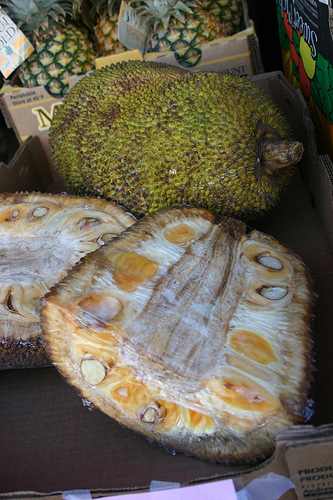jackfruit: (38, 206, 315, 465), (42, 60, 299, 212), (0, 189, 140, 371)
